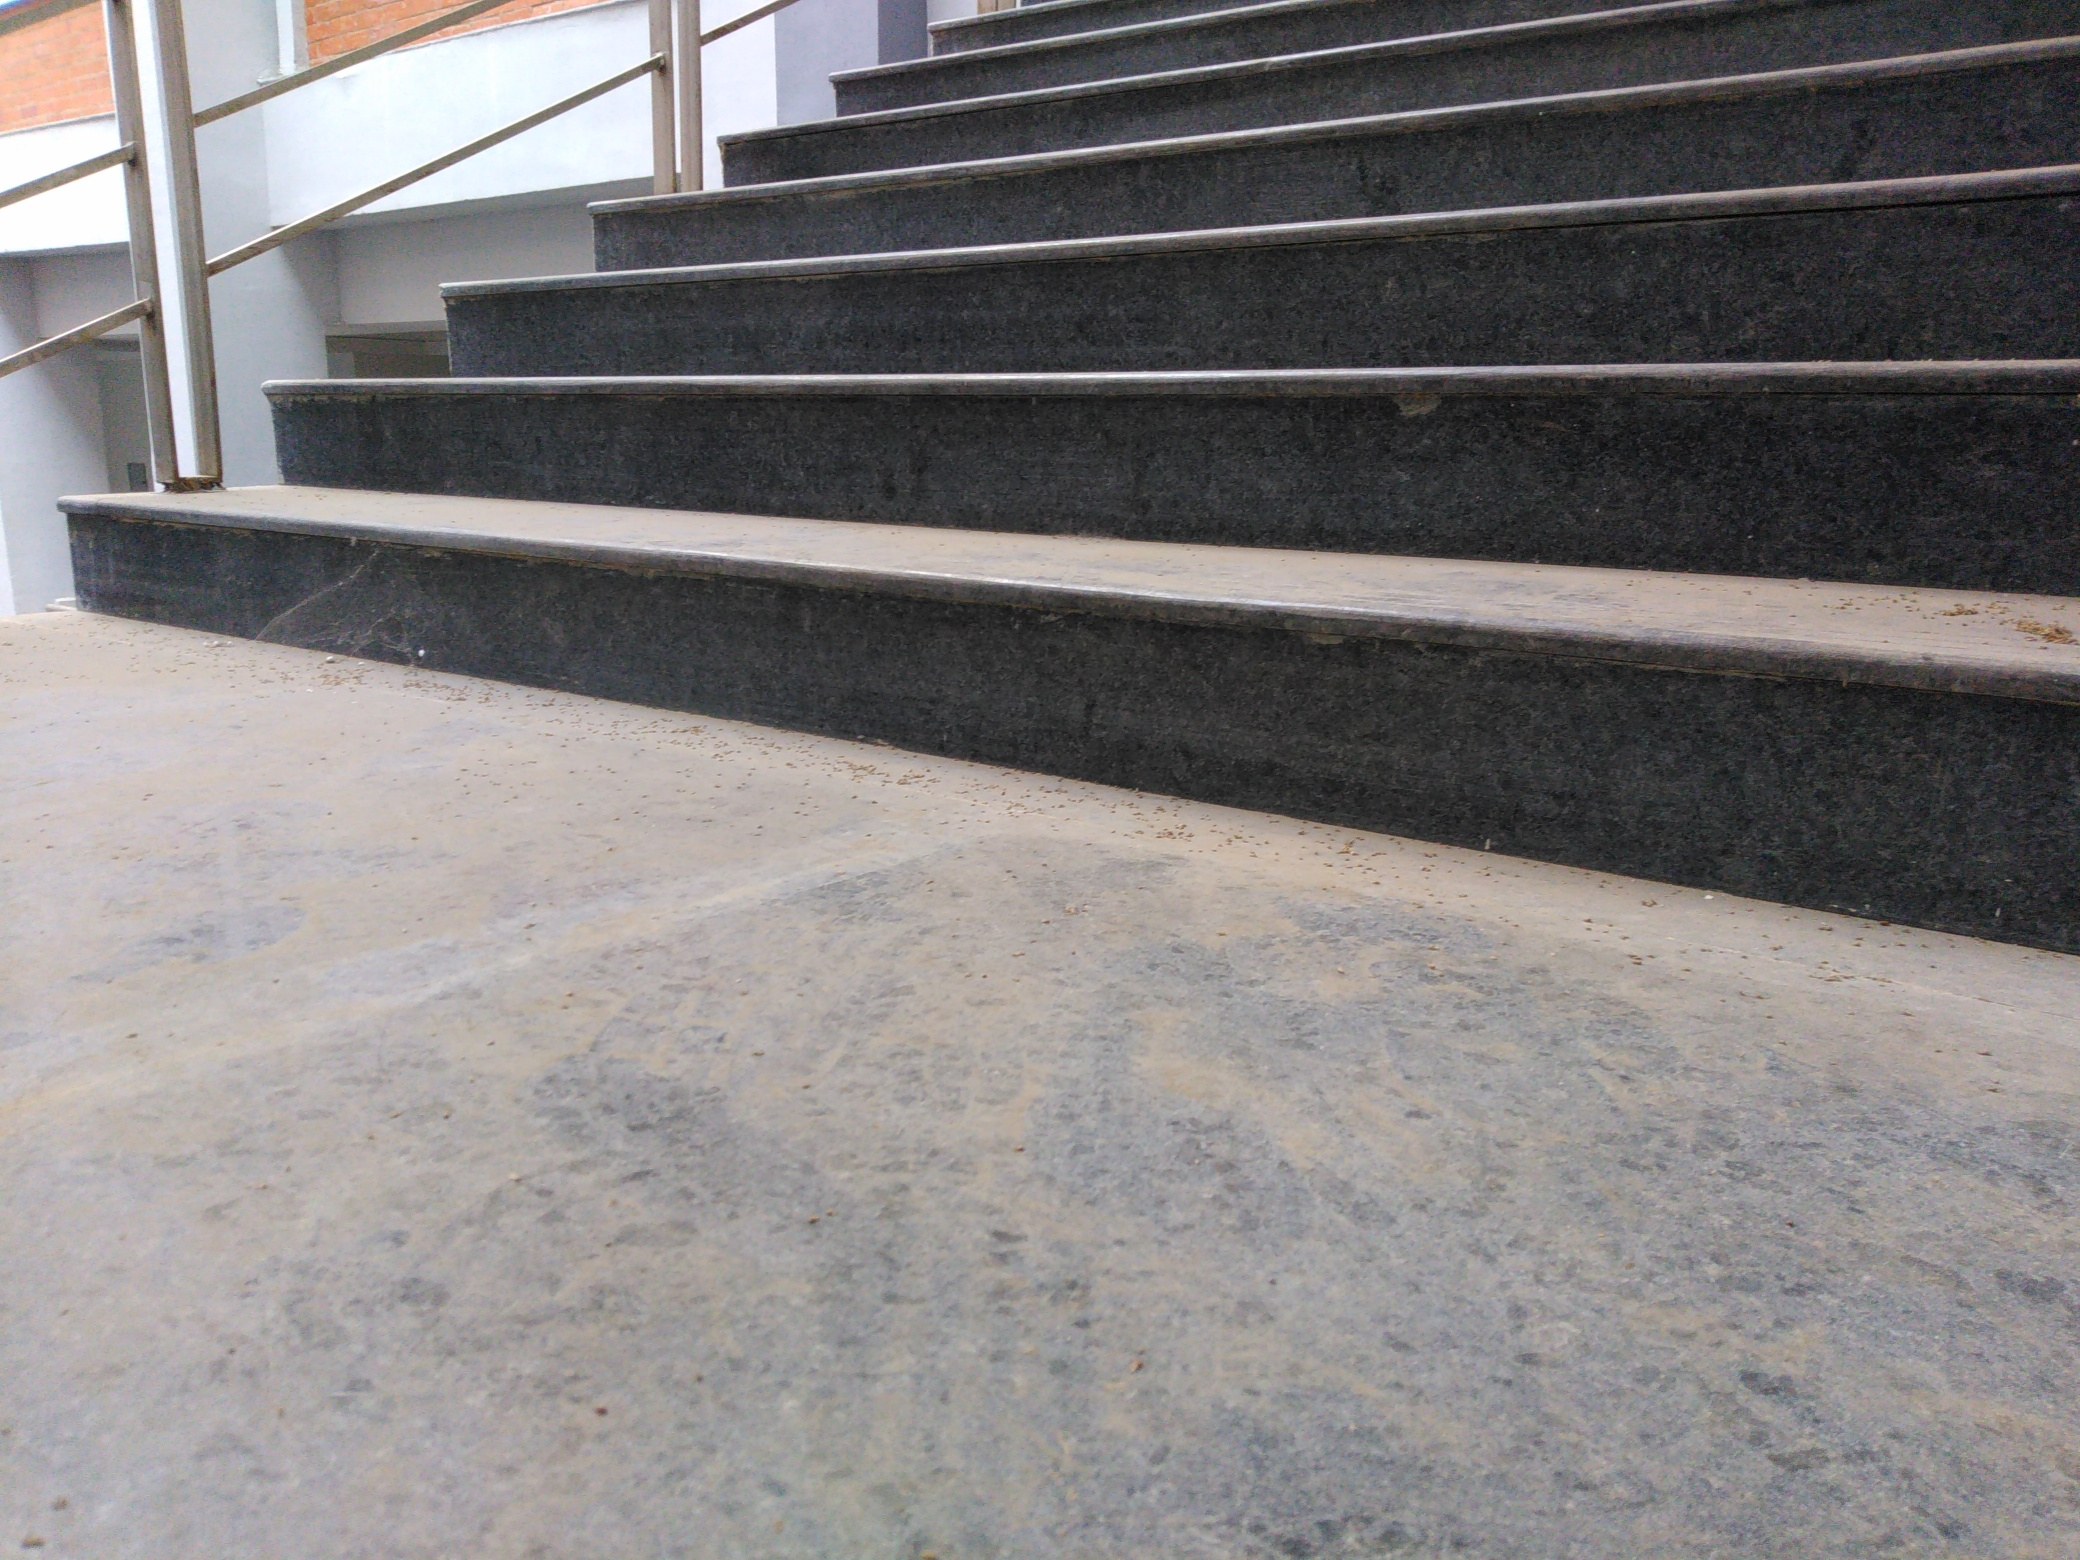stairs_up: (180, 11, 2069, 773)
